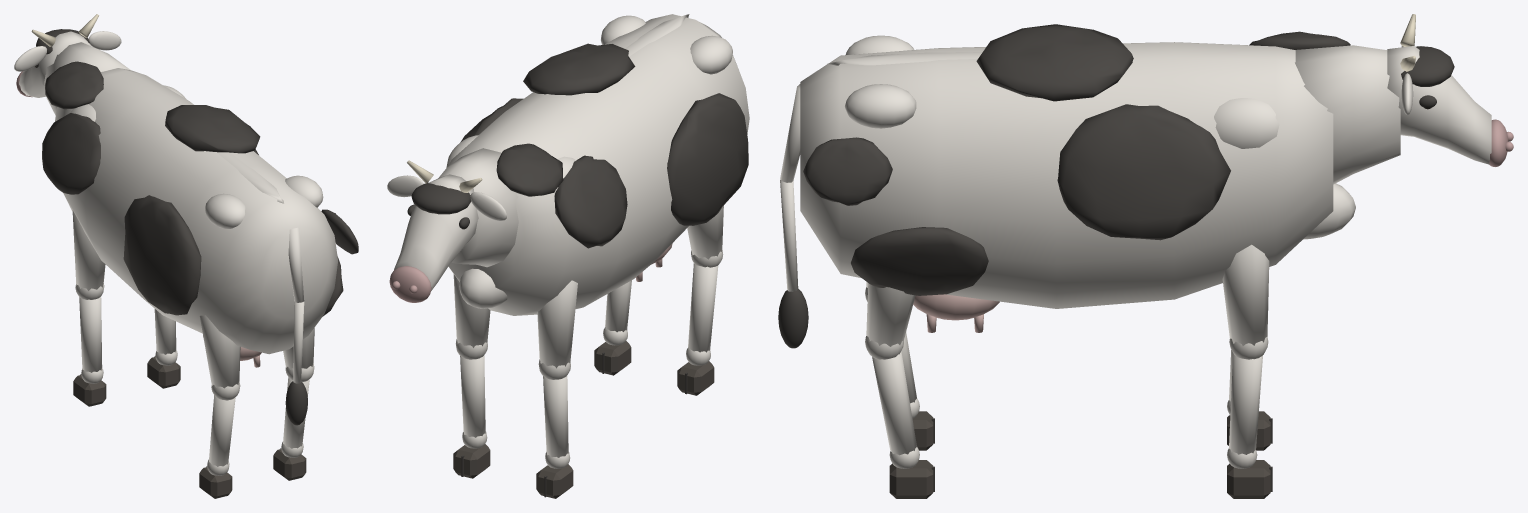
The model's file is cow.glb.
3 views of the same model, side by side, from view 1: azimuth 30°, elevation 25°; view 2: azimuth 150°, elevation 25°; view 3: azimuth 270°, elevation 25° (orthographic). The views are drawn at different scales.
Visible parts, largest first — view 1: Krava; view 2: Krava; view 3: Krava.
Part boxes in pixels (bbox=[...]): Krava: bbox=[14, 14, 358, 498]; Krava: bbox=[387, 14, 749, 498]; Krava: bbox=[778, 14, 1513, 498].
Size of the model in its own units: 0.7796 by 1.43 by 2.18.
